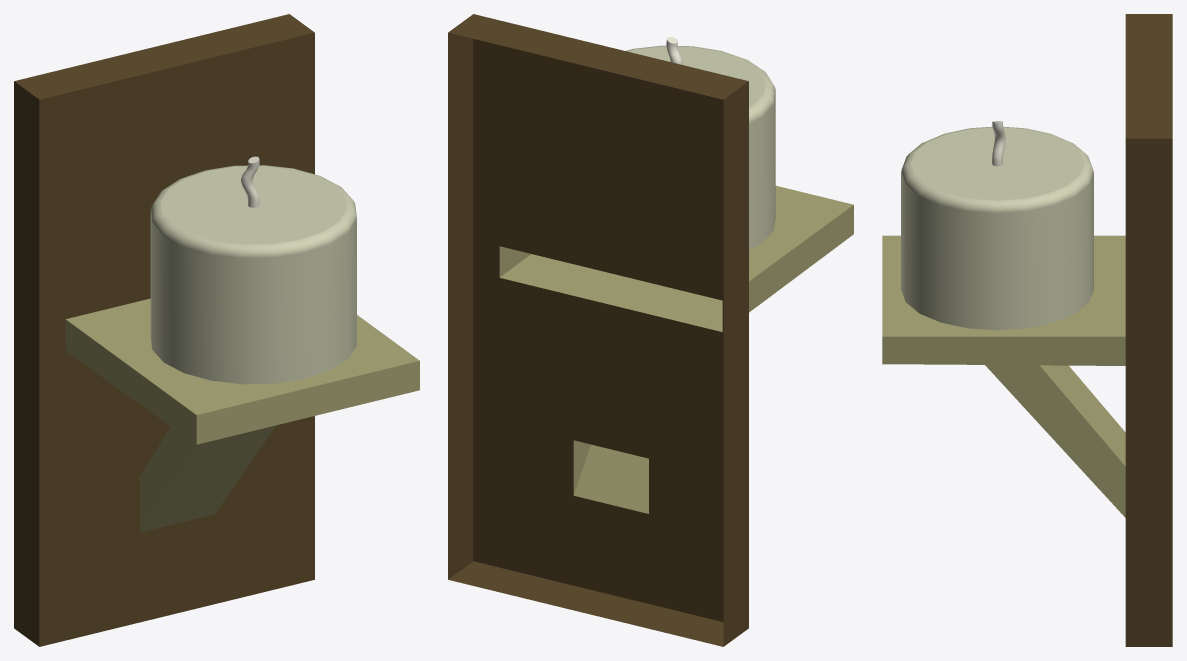
The model's file is Wall Candles.fbx.
The picture shows the model from 3 angles, left to right: view 1: azimuth 30°, elevation 25°; view 2: azimuth 150°, elevation 25°; view 3: azimuth 270°, elevation 25°; orthographic projection. The views are drawn at different scales.
Parts seen in each view (by area): view 1: pCube79, pCylinder30; view 2: pCube79, pCylinder30; view 3: pCube79, pCylinder30.
Boxes of the visible parts, x1,y1,x2,y2 form: pCube79: (14,14,419,646); pCylinder30: (150,156,356,384); pCube79: (448,14,853,646); pCylinder30: (626,37,775,249); pCube79: (882,14,1172,646); pCylinder30: (901,121,1093,330).
Size of the model in its own units: 0.8914 by 1.69 by 0.8772.
